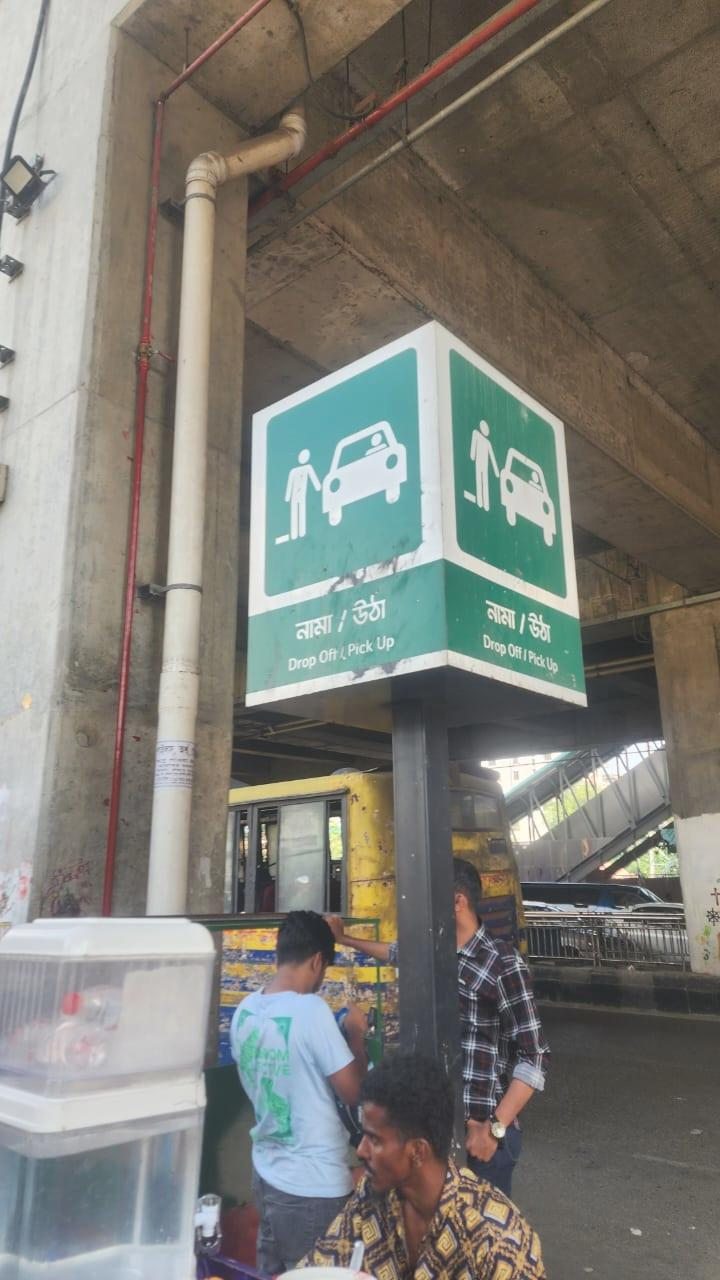Metro Dorp Up Pick up: (245, 312, 587, 678)
